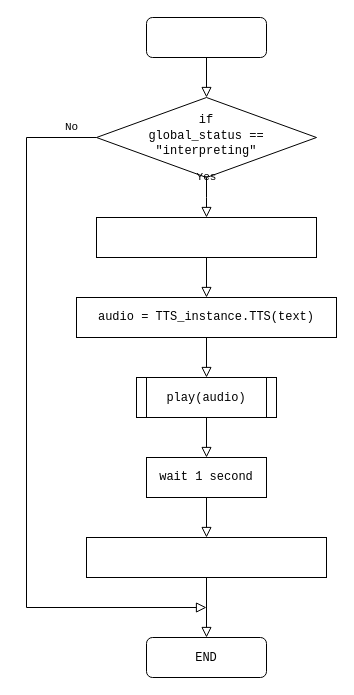
The diagram is 354 pixels wide and 695 high, and some of its shapes have lost their labels. The centre of each missing label's shape, as x and y in pixels:
repoduce_status = "available": [206,557]
REPRODUCE: [206,37]
reproduce_status = "busy": [206,237]
